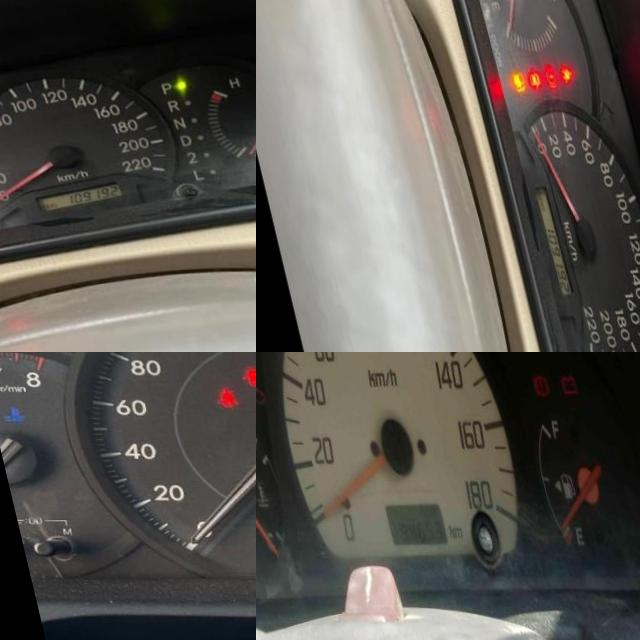Seat Belt: (196, 389, 219, 411), (552, 68, 568, 85)
